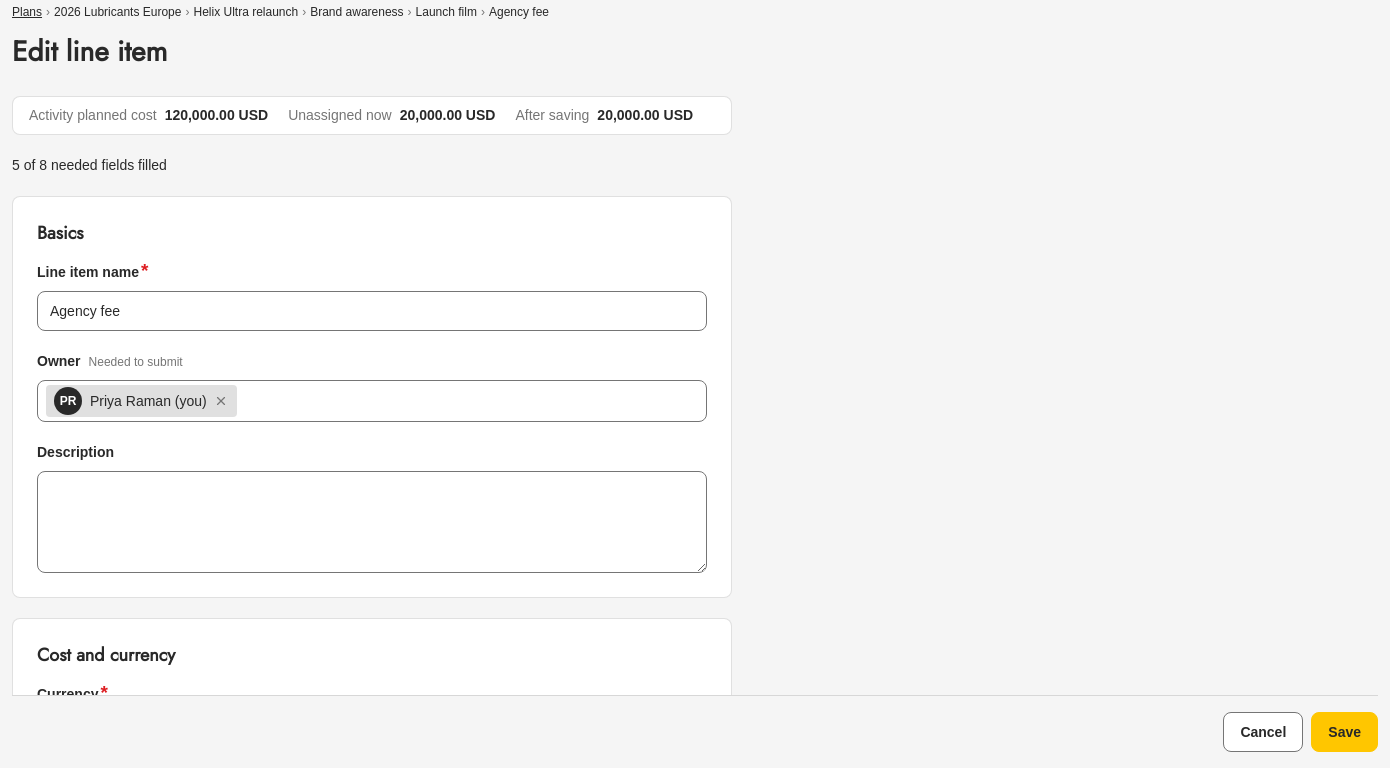
LineItemEditPage (US4, FR-027) › says when the activity was deleted while editing (edge case, D-154)
Expected: the field labelled "Line item name" is shown, x1=37 y1=291 x2=707 y2=331
Click the button "Save".
click(1345, 732)  # box x1=1311 y1=712 x2=1378 y2=752
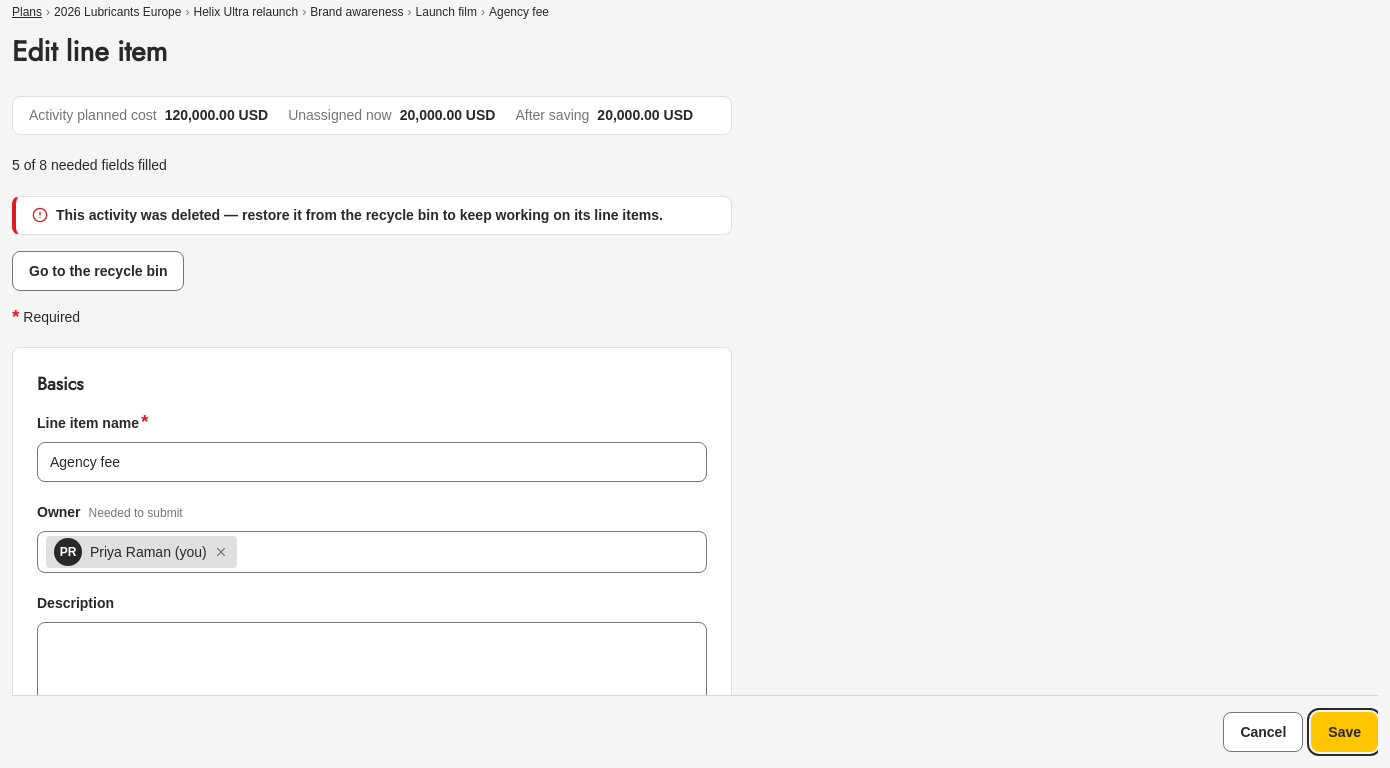
Expected: the text "This activity was deleted — restore it from the recycle bin to keep working on its line items." is shown, x1=56 y1=207 x2=663 y2=223
Expected: the link "Go to the recycle bin" is shown, x1=12 y1=251 x2=184 y2=291
